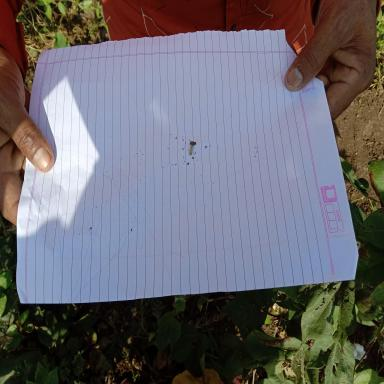pbw: (187, 144, 193, 156)
